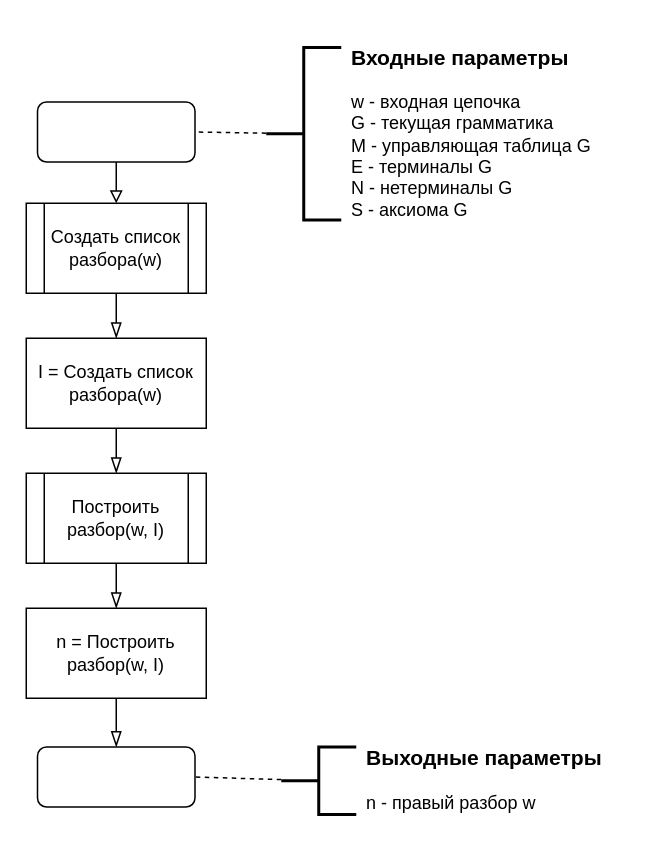
Some shapes in this 671 by 843 pixel diagram are drawn without their labels. The shapes that lost their labels are listed below. From the top down, each one's centre as x and y in pixels, then its label:
At (115,131): "Начало".
At (115,776): "Конец".
